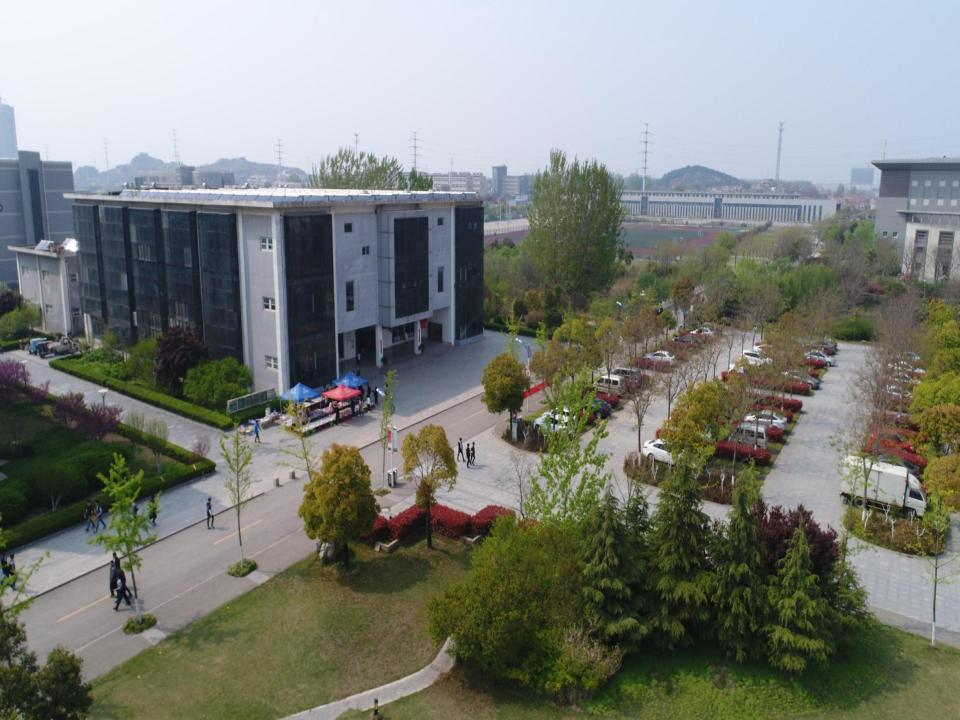car: (866, 428, 915, 458), (869, 458, 921, 482), (642, 438, 689, 464), (533, 413, 575, 440), (743, 410, 788, 432), (572, 398, 613, 420), (780, 369, 820, 391), (541, 407, 577, 430), (641, 349, 678, 370), (801, 349, 837, 367), (887, 363, 926, 378), (886, 374, 922, 389), (805, 339, 837, 355), (879, 387, 913, 402), (672, 334, 706, 349), (740, 350, 774, 365), (752, 345, 785, 358), (686, 326, 717, 339)
truck: (839, 454, 926, 518)
van: (725, 425, 768, 452), (590, 374, 626, 395), (607, 368, 640, 390)
